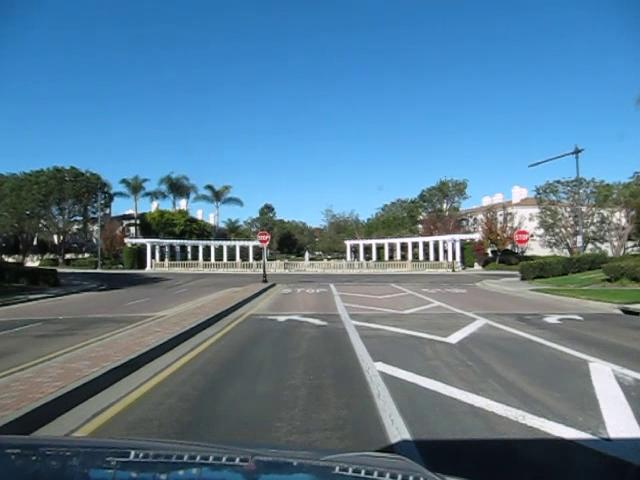stop: (513, 228, 530, 246), (254, 229, 270, 242)
